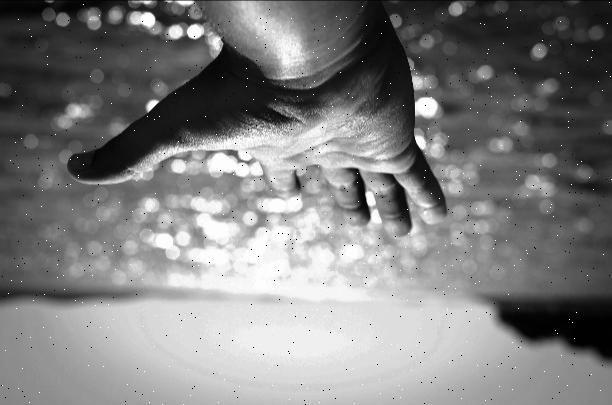Paper: (63, 61, 448, 238)
